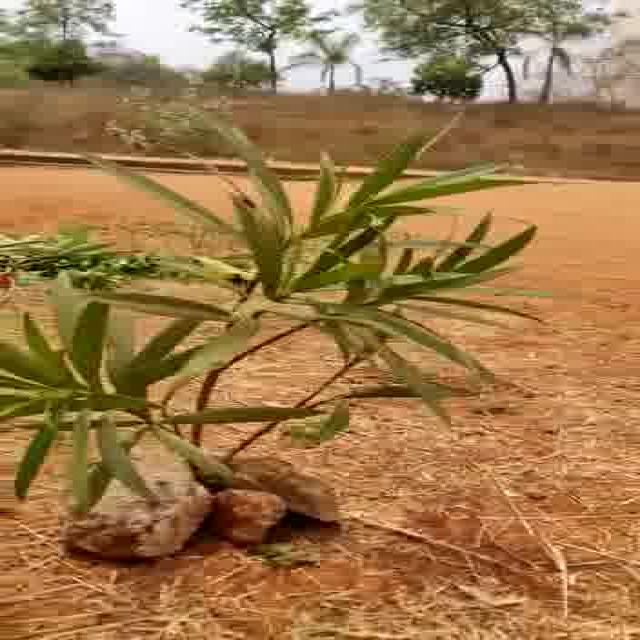Oleander: (0, 158, 533, 492)
